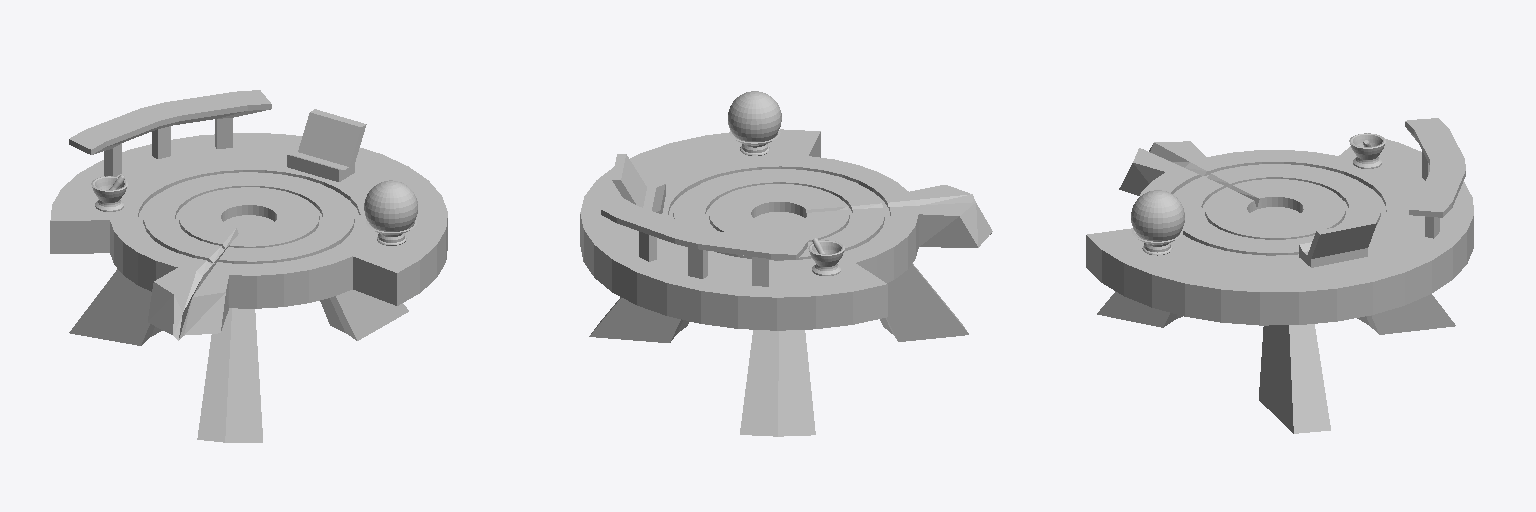
The model's file is AlchemyTable.obj.
3 views of the same model, side by side, from view 1: azimuth 30°, elevation 25°; view 2: azimuth 150°, elevation 25°; view 3: azimuth 270°, elevation 25° (orthographic).
Parts seen in each view (by area): view 1: AlchemyTable_AlchemyTable; view 2: AlchemyTable_AlchemyTable; view 3: AlchemyTable_AlchemyTable.
Boxes of the visible parts, x1,y1,x2,y2 form: AlchemyTable_AlchemyTable: [50, 90, 447, 442]; AlchemyTable_AlchemyTable: [580, 91, 992, 436]; AlchemyTable_AlchemyTable: [1086, 118, 1473, 433].
Size of the model in its own units: 184 by 107 by 190.